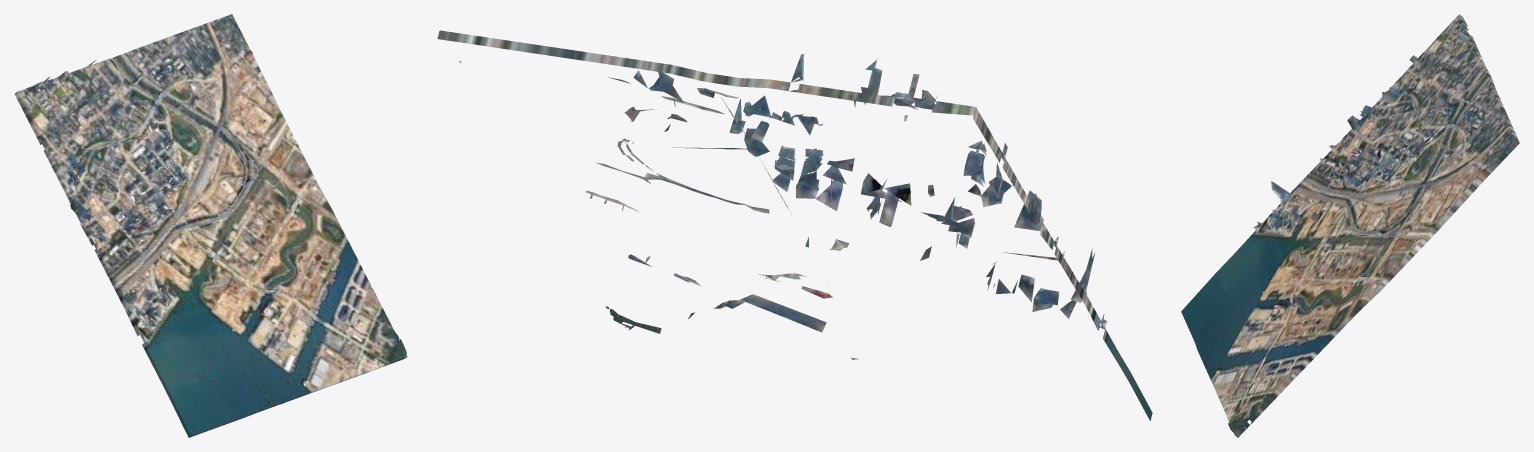
The model's file is AJVsH2z6qMl-Dhuq7q7DqB9qH-qLlH2Tv27n6NAs3BNogICNFwLwxNc1u8VLY1a0NuQmhqhtQCbtlmOXbn-2THyC4pBzqJaAA7Tau9o4M3iLjeCIhN9WUkgg3pqk4jm_BnScyv9e4b5iz0fJ_0AxeHDoJX1m.glb.
3 renders of one model, left to right at view 1: azimuth 30°, elevation 25°; view 2: azimuth 150°, elevation 25°; view 3: azimuth 270°, elevation 25°, orthographic. The views are drawn at different scales.
Bounding box in the file's own units: 2061 × 1883 × 1993.
1 material, 1 textured.
